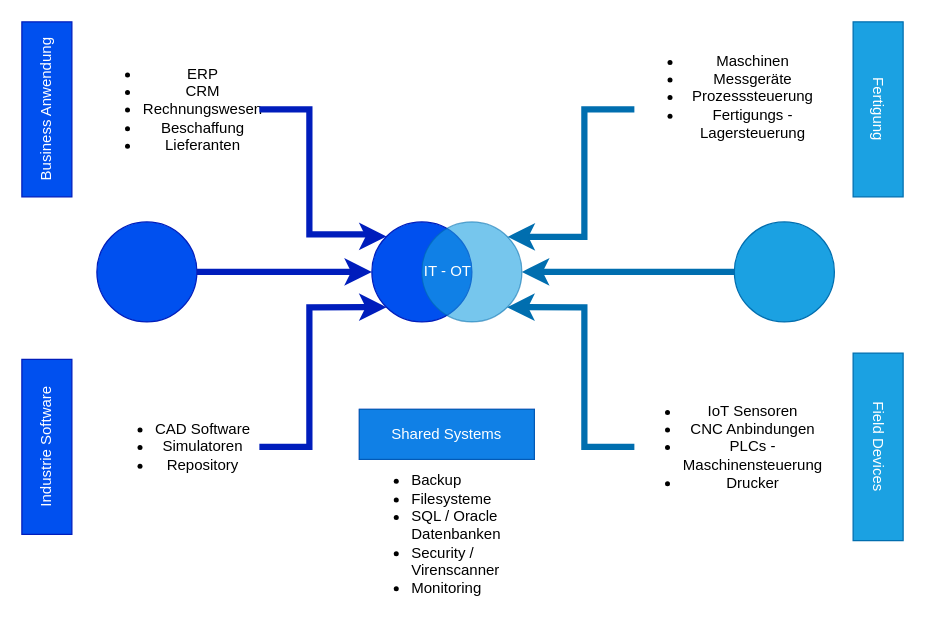
Image size: 925x634. Some labels were removed from this diagram. Here are the shapes that lost their labels. From the top down, the centre of each, then its label:
[146,271]: IT Systeme
[783,271]: OT Systeme
